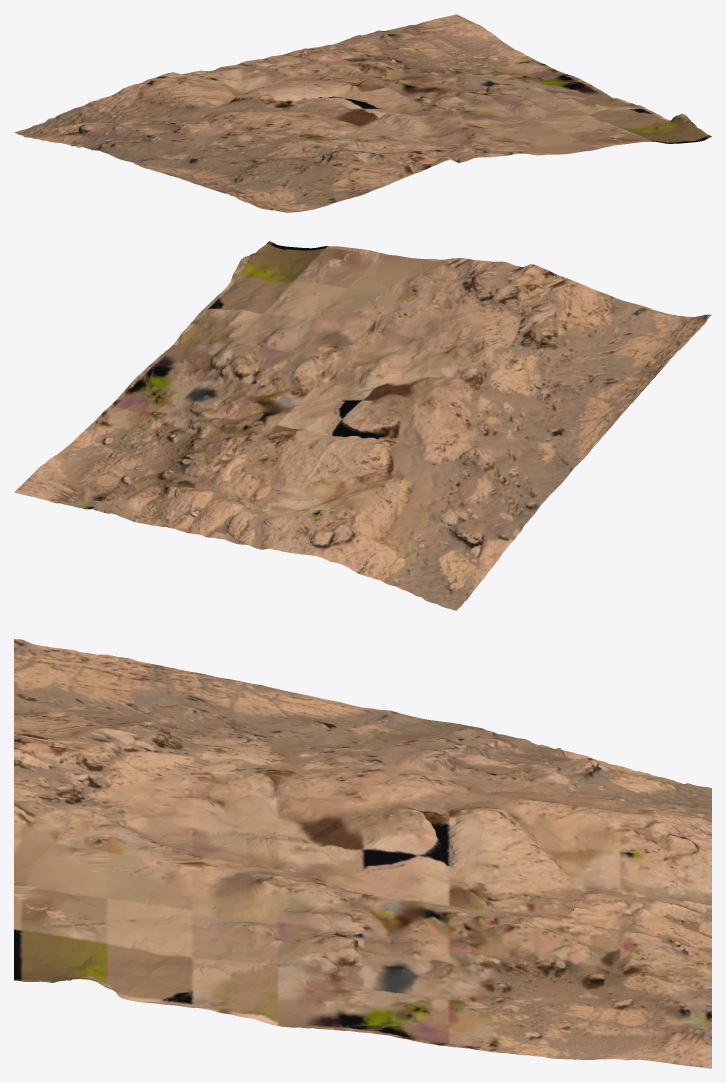
3 views of the same model, one above another, from view 1: azimuth 30°, elevation 25°; view 2: azimuth 150°, elevation 25°; view 3: azimuth 270°, elevation 25° (orthographic). The views are drawn at different scales.
Bounding box in the file's own units: 8.36 × 2.09 × 8.36.
Materials: 2 (2 with a texture image).
